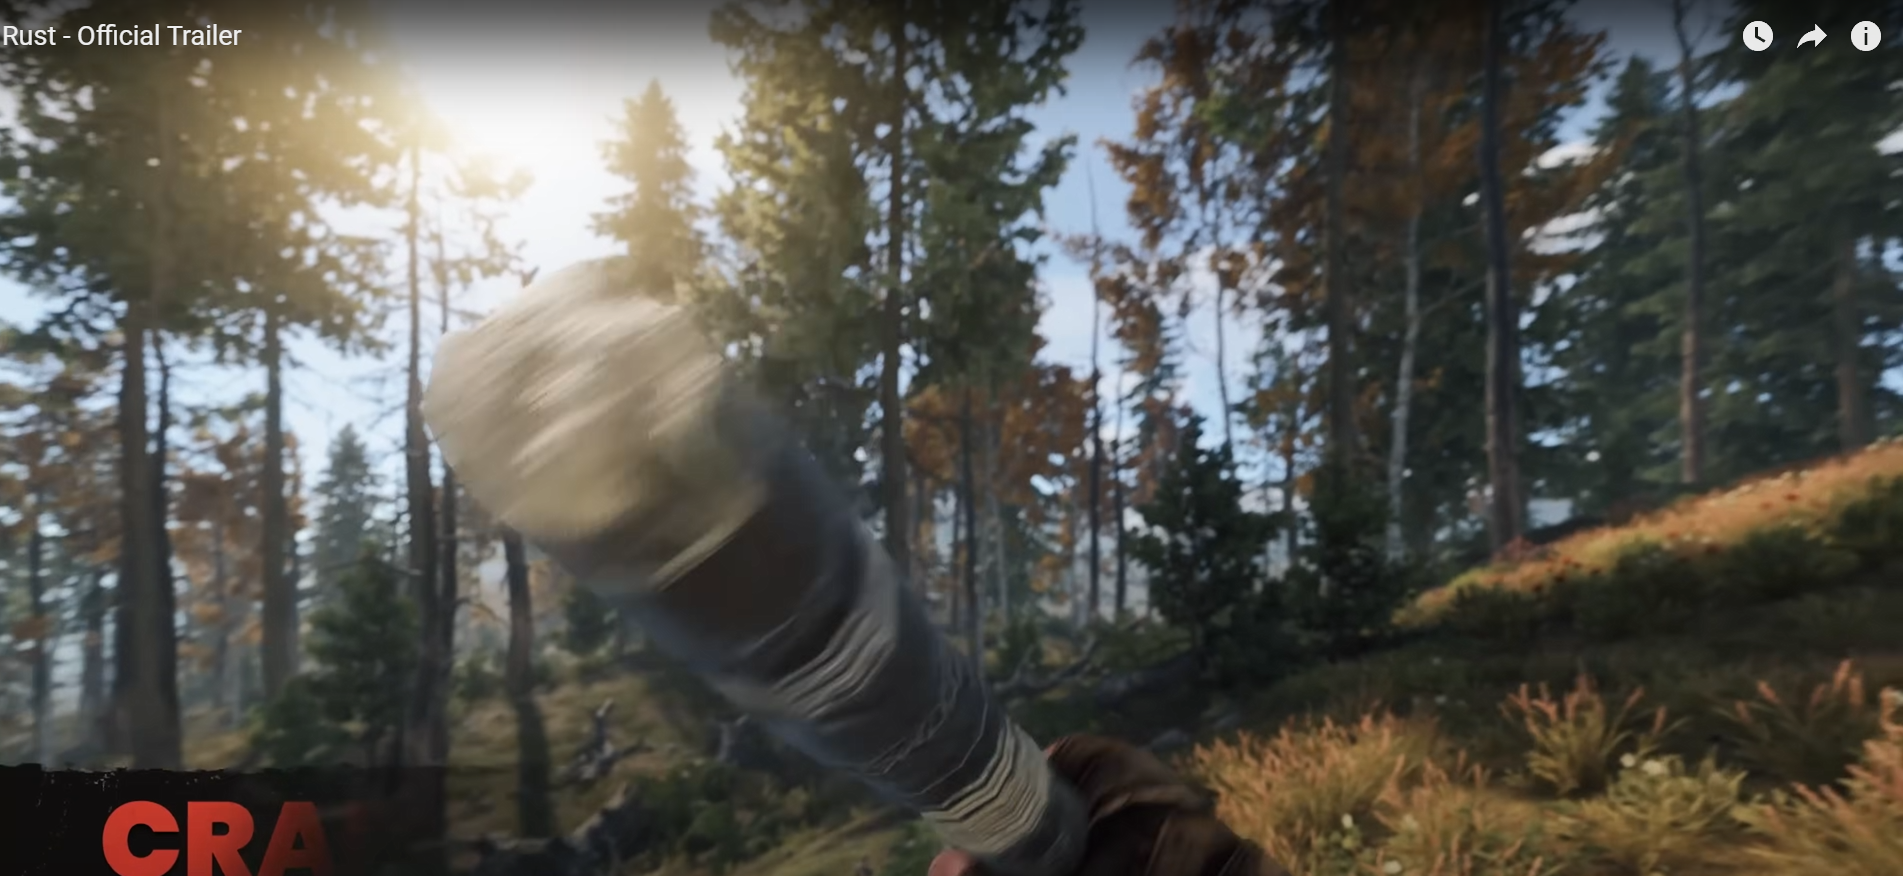tree: (95, 23, 244, 775), (1442, 5, 1560, 573), (1, 114, 106, 738), (1769, 2, 1890, 474), (382, 127, 453, 868), (1303, 11, 1392, 579), (248, 34, 316, 726), (921, 33, 993, 654), (864, 7, 920, 584), (1666, 11, 1729, 502), (1477, 7, 1527, 548), (1814, 1, 1870, 448), (1392, 5, 1437, 554), (478, 284, 536, 682), (1069, 160, 1100, 638), (1683, 25, 1708, 490), (1119, 392, 1137, 610)
